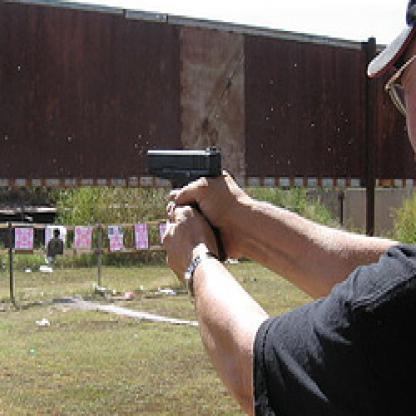gun: (133, 133, 231, 237)
